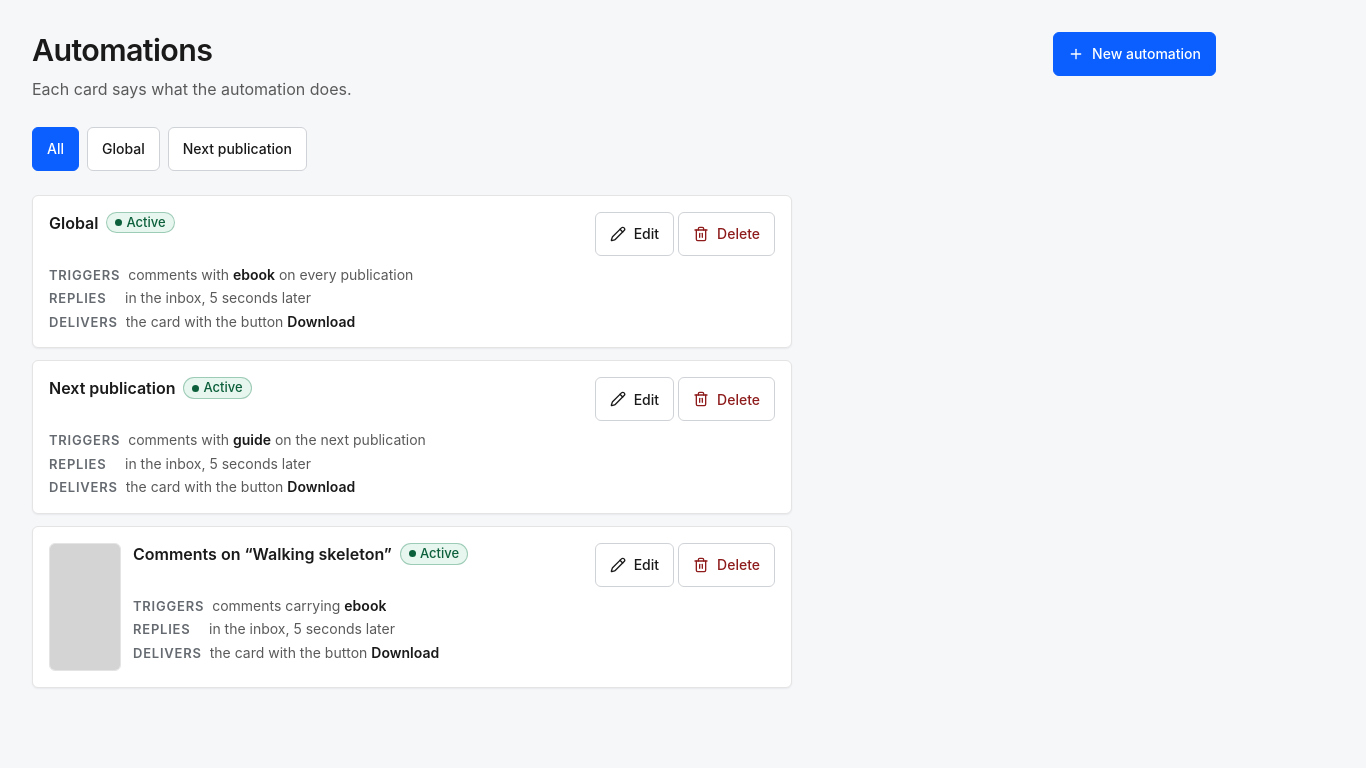
REQ-381, REQ-382: scope cards are recognisable and scannable › filters global and next-publication cards without treating specific cards as either
The image size is (1366, 768).
Click the button "Global" at (123, 149), box [87, 127, 160, 171]
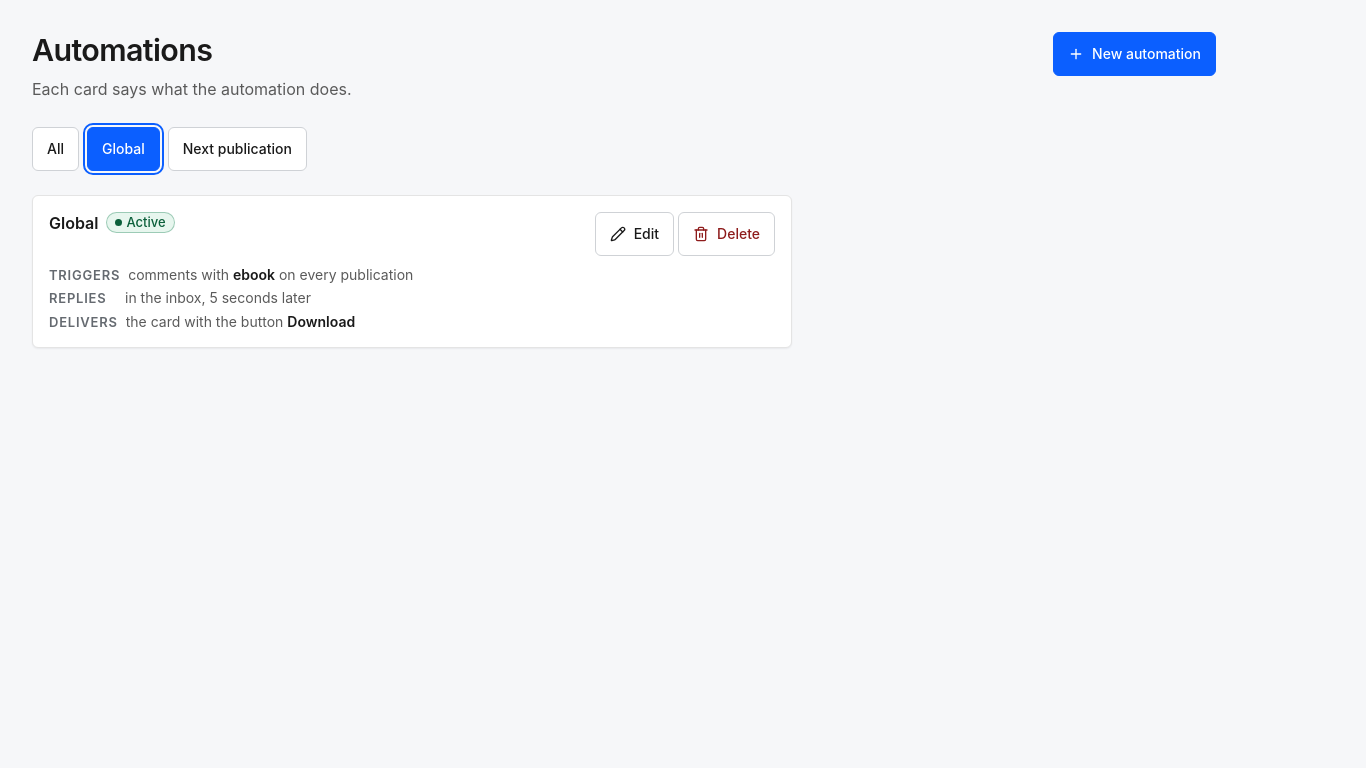
Expected: the number of elements with class "mc-card__title" is 1, [49, 213, 98, 233]
Expected: the text with class "mc-card__title" reads "Global", [49, 213, 98, 233]
Click the button "Next publication" at (237, 149), box [168, 127, 307, 171]
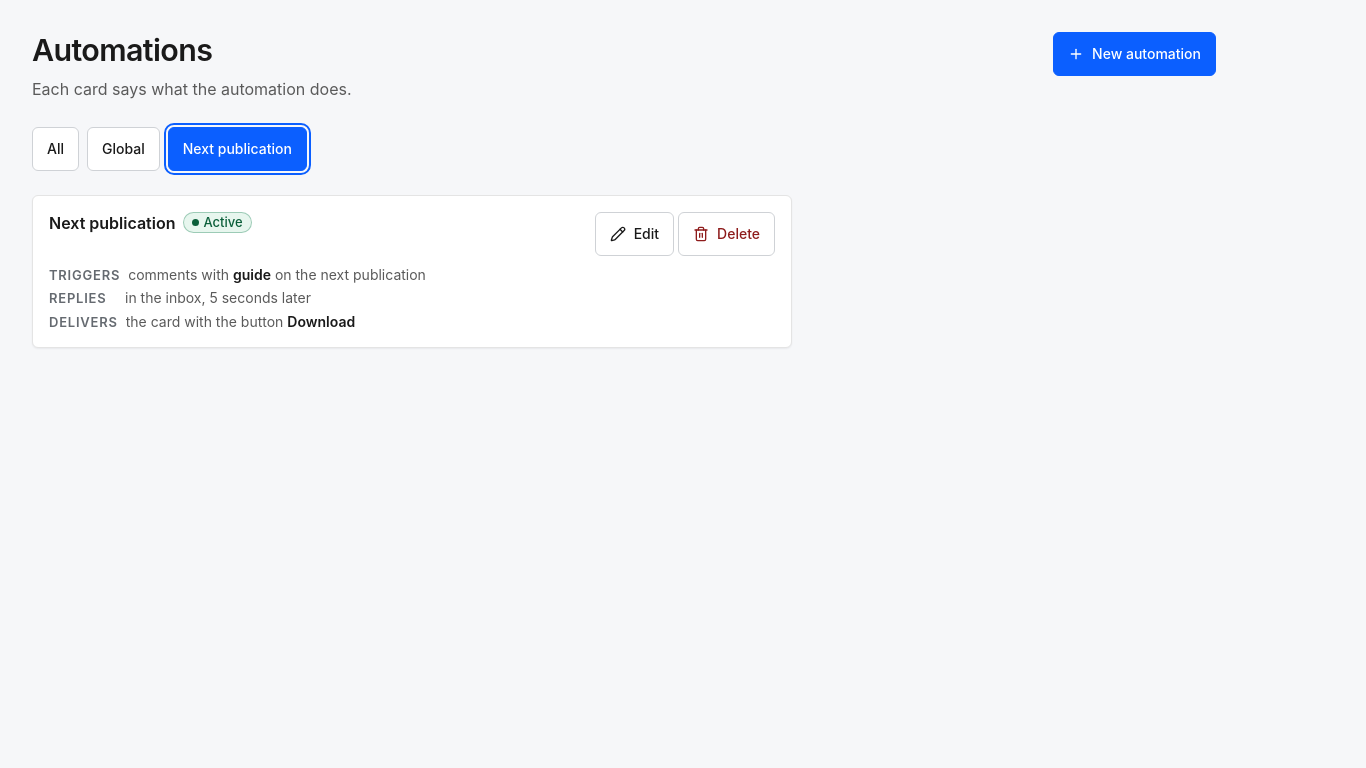
Expected: the number of elements with class "mc-card__title" is 1, [49, 213, 176, 233]
Expected: the text with class "mc-card__title" reads "Next publication", [49, 213, 176, 233]
